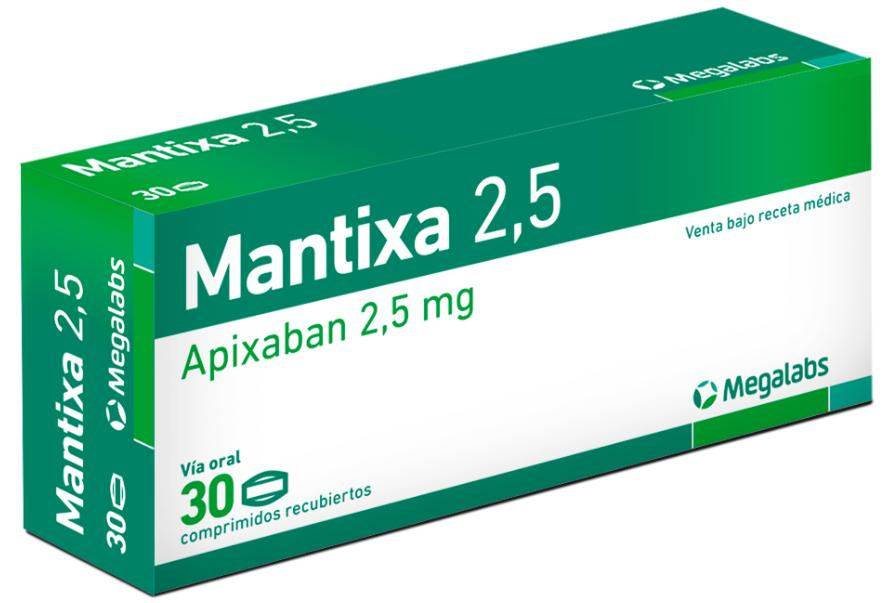brand: (719, 339, 841, 414)
extra_detail: (173, 266, 488, 397)
net_weight: (176, 467, 238, 532)
product_name: (172, 148, 573, 325)
